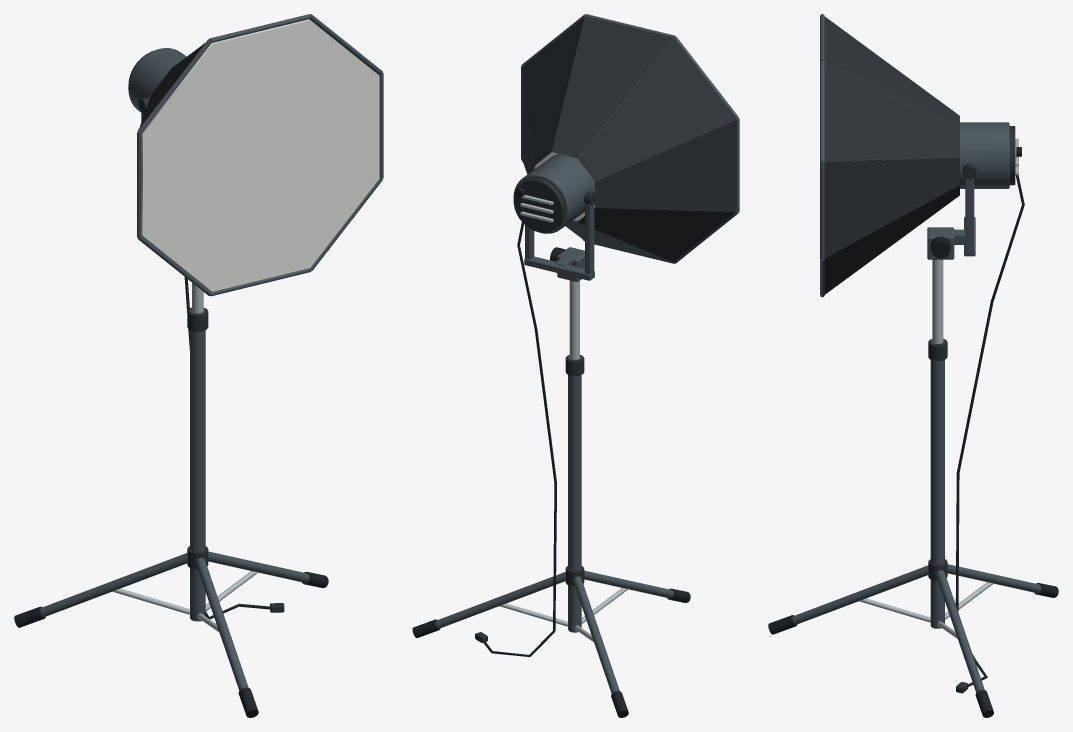
The model's file is city-octagonal-studio-softbox.glb.
3 views of the same model, side by side, from view 1: azimuth 30°, elevation 25°; view 2: azimuth 150°, elevation 25°; view 3: azimuth 270°, elevation 25° (orthographic). The views are drawn at different scales.
Parts seen in each view (by area): view 1: Assembly | Plain softbox diffuser cloth, Assembly | Dark slate equipment housing, Assembly | Graphite cloth and trim, Assembly | Soft black grip and cable, Assembly | Satin support metal; view 2: Assembly | Graphite cloth and trim, Assembly | Dark slate equipment housing, Assembly | Soft black grip and cable, Assembly | Satin support metal; view 3: Assembly | Graphite cloth and trim, Assembly | Dark slate equipment housing, Assembly | Soft black grip and cable, Assembly | Satin support metal.
Boxes of the visible parts, x1,y1,x2,y2 form: Assembly | Plain softbox diffuser cloth: [141, 19, 379, 291]; Assembly | Dark slate equipment housing: [40, 14, 383, 690]; Assembly | Graphite cloth and trim: [128, 19, 378, 612]; Assembly | Soft black grip and cable: [14, 277, 328, 717]; Assembly | Satin support metal: [112, 283, 258, 632]; Assembly | Graphite cloth and trim: [475, 17, 735, 642]; Assembly | Dark slate equipment housing: [435, 14, 739, 693]; Assembly | Soft black grip and cable: [412, 187, 690, 717]; Assembly | Satin support metal: [499, 195, 628, 642]; Assembly | Graphite cloth and trim: [824, 16, 1015, 693]; Assembly | Dark slate equipment housing: [792, 14, 1041, 692]; Assembly | Soft black grip and cable: [768, 147, 1058, 717]; Assembly | Satin support metal: [859, 138, 1018, 638].
Size of the model in its own units: 1.04 by 2.37 by 1.02.
